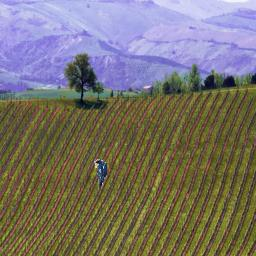Swallow: (94, 159, 107, 189)
